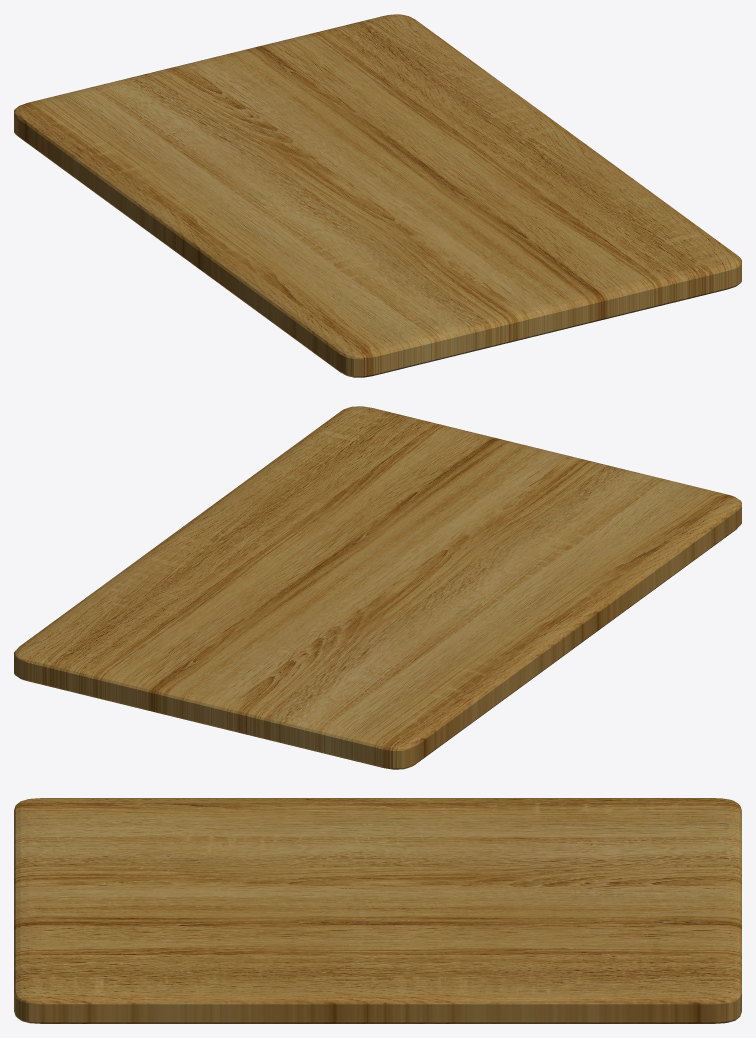
File: wooden-cutting-board-1.obj
3 views of the same model, one above another, from view 1: azimuth 30°, elevation 25°; view 2: azimuth 150°, elevation 25°; view 3: azimuth 270°, elevation 25° (orthographic). The views are drawn at different scales.
Visible parts, largest first — view 1: Kitchenware_26; view 2: Kitchenware_26; view 3: Kitchenware_26.
Part boxes in pixels (<box>): Kitchenware_26: <box>14,14,741,377</box>; Kitchenware_26: <box>14,406,741,769</box>; Kitchenware_26: <box>14,798,741,1023</box>.
Size of the model in its own units: 25.04 by 1.58 by 37.62.
1 material, 1 textured.
